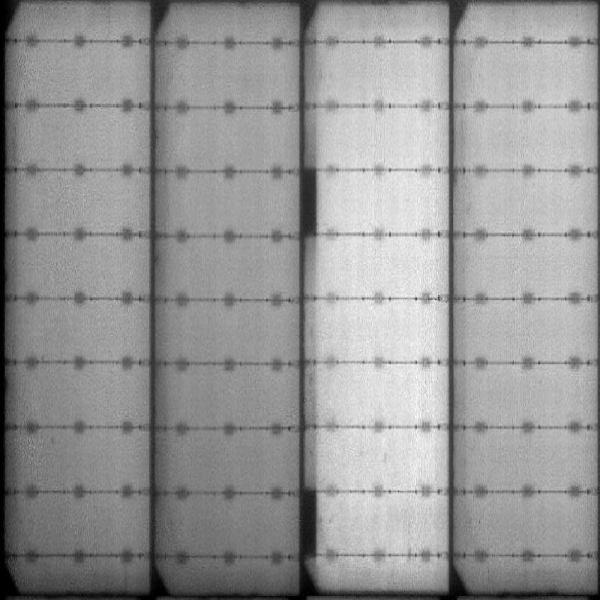black_border: (294, 165, 325, 241), (297, 483, 323, 564)
